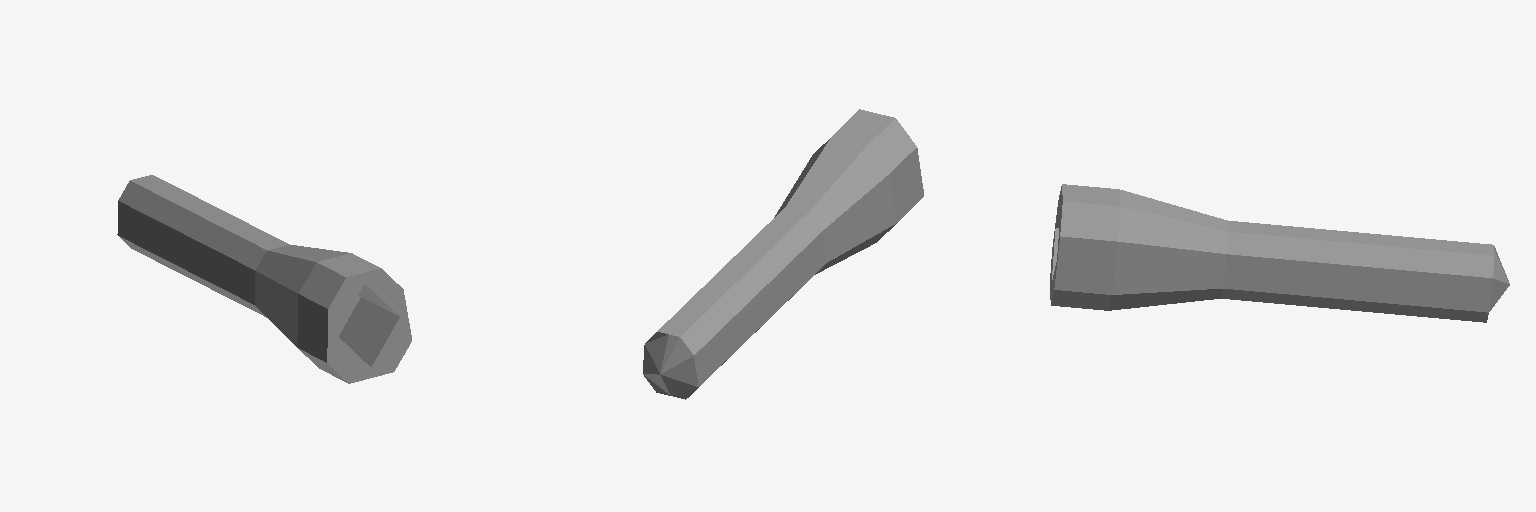
Rendered from torre1ca 1.obj.
The picture shows the model from 3 angles: view 1: azimuth 30°, elevation 25°; view 2: azimuth 150°, elevation 25°; view 3: azimuth 270°, elevation 25°; orthographic projection.
Visible parts, largest first — view 1: Cube; view 2: Cube; view 3: Cube.
Part boxes in pixels (left/top/right/bottom): Cube: left=117, top=175, right=411, bottom=383; Cube: left=643, top=109, right=923, bottom=399; Cube: left=1050, top=184, right=1509, bottom=322.
Bounding box in the file's own units: 0.3822 × 0.5284 × 1.75.